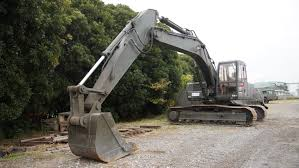excavator: (65, 9, 266, 161)
